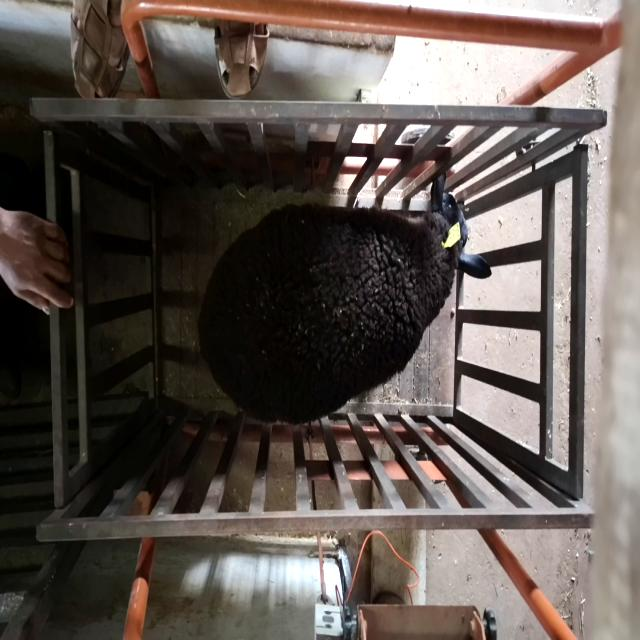sheep: (198, 170, 492, 426)
